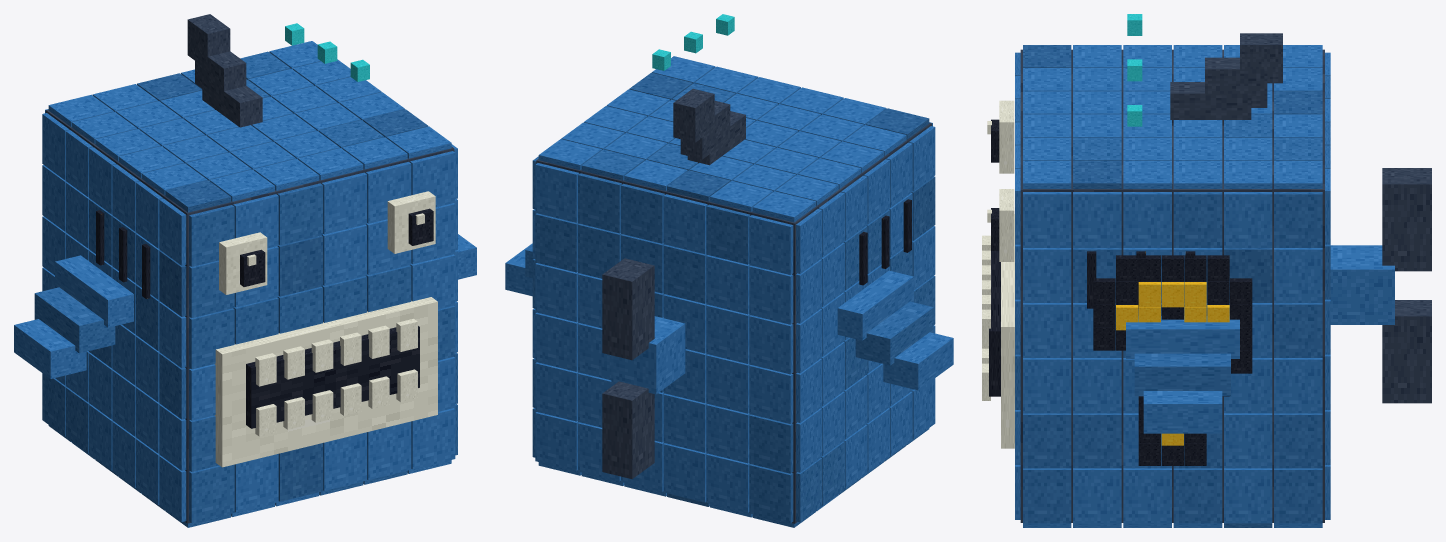
The model's file is LB_03_Shark_v2.glb.
3 views of the same model, side by side, from view 1: azimuth 30°, elevation 25°; view 2: azimuth 150°, elevation 25°; view 3: azimuth 270°, elevation 25° (orthographic). The views are drawn at different scales.
Parts seen in each view (by area): view 1: Body_Shark, FinL_Shark, Dorsal_Shark, FinR_Shark; view 2: Body_Shark, Tail_Shark, FinL_Shark, Dorsal_Shark, FinR_Shark; view 3: Body_Shark, Tail_Shark, FinR_Shark, Dorsal_Shark.
Boxes of the visible parts, x1,y1,x2,y2 form: Body_Shark: (42, 41, 457, 527); FinL_Shark: (14, 255, 133, 378); Dorsal_Shark: (187, 14, 262, 127); FinR_Shark: (457, 234, 476, 279); Body_Shark: (532, 56, 935, 527); Tail_Shark: (602, 258, 686, 478); FinL_Shark: (837, 270, 953, 390); Dorsal_Shark: (673, 88, 745, 165); FinR_Shark: (505, 243, 533, 296); Body_Shark: (982, 45, 1330, 527); Tail_Shark: (1330, 168, 1431, 403); FinR_Shark: (1126, 316, 1239, 433); Dorsal_Shark: (1170, 33, 1282, 125).
Bounding box in the file's own units: 4 × 3.8 × 3.4.
1 material, 1 textured.
